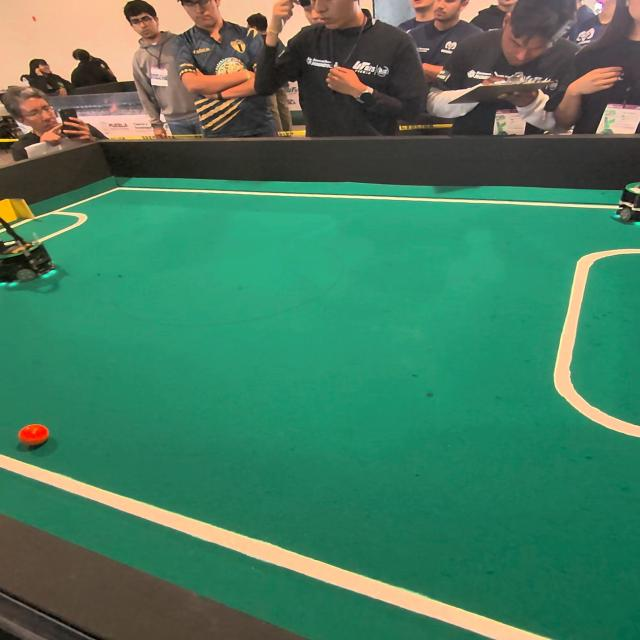Robot: (0, 188, 63, 294), (611, 165, 640, 229)
pelota: (20, 424, 50, 449)
